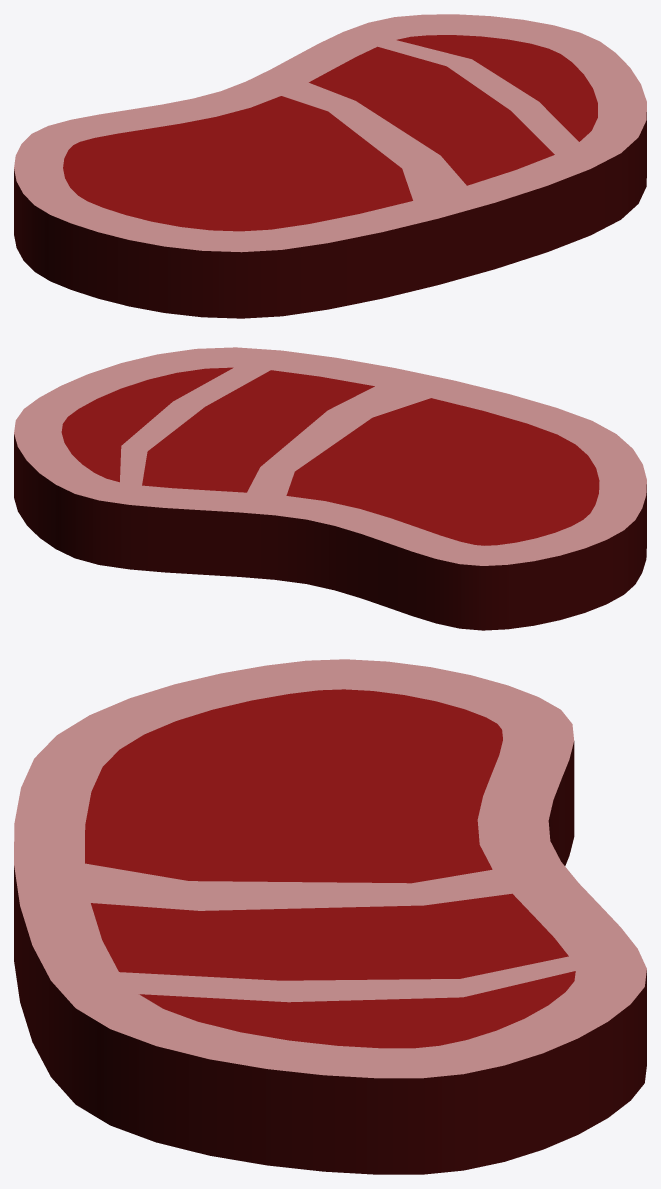
Rendered from CARNE.fbx.
3 renders of one model, top to bottom at view 1: azimuth 30°, elevation 25°; view 2: azimuth 150°, elevation 25°; view 3: azimuth 270°, elevation 25°, orthographic. The views are drawn at different scales.
Parts seen in each view (by area): view 1: CARNE; view 2: CARNE; view 3: CARNE.
Boxes of the visible parts, x1=… form: CARNE: x1=14, y1=14, x2=646, y2=318; CARNE: x1=14, y1=347, x2=646, y2=630; CARNE: x1=14, y1=659, x2=646, y2=1174.
Bounding box in the file's own units: 17.8 × 1.91 × 11.36.
